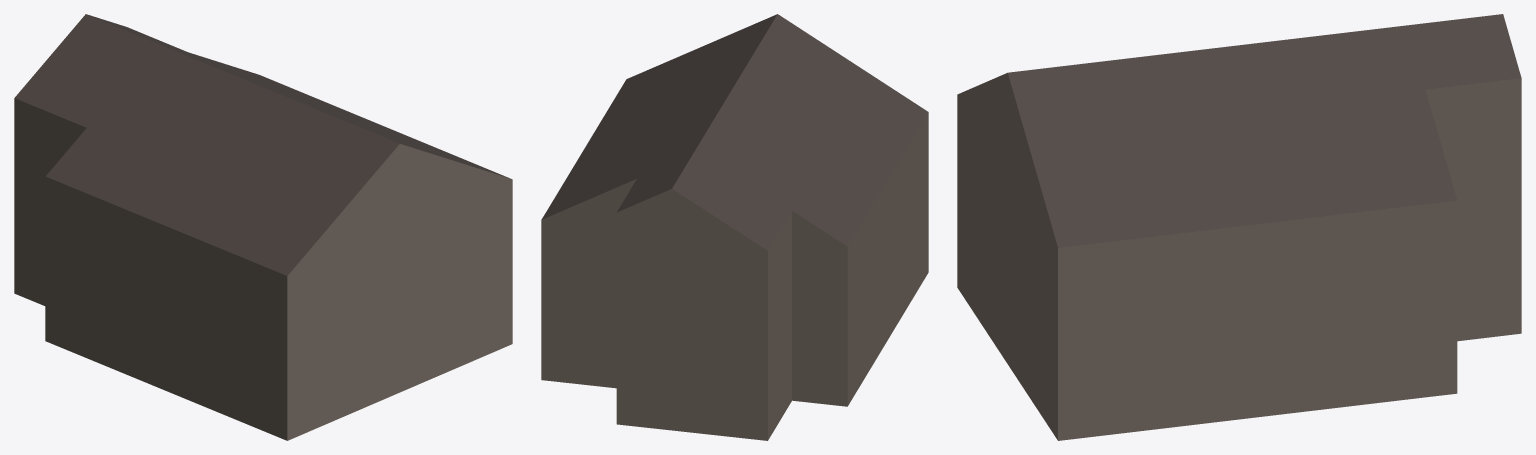
The picture shows the model from 3 angles, left to right: view 1: azimuth 30°, elevation 25°; view 2: azimuth 150°, elevation 25°; view 3: azimuth 270°, elevation 25°; orthographic projection. The views are drawn at different scales.
Visible parts, largest first — view 1: HP-w783664786; view 2: HP-w783664786; view 3: HP-w783664786.
Part boxes in pixels (box(x1,y1,x2,y2)): HP-w783664786: box(14, 14, 512, 440); HP-w783664786: box(541, 14, 928, 440); HP-w783664786: box(957, 14, 1521, 440).
Size of the model in its own units: 13.24 by 9.07 by 15.9.
